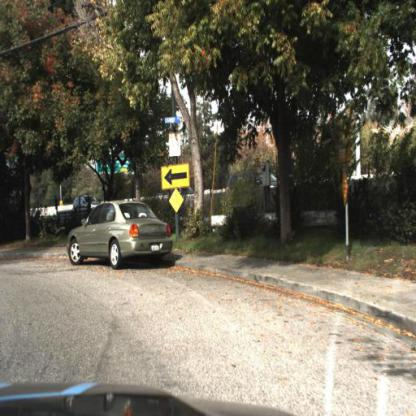car: (61, 196, 181, 272), (71, 191, 104, 212), (170, 183, 198, 199)
